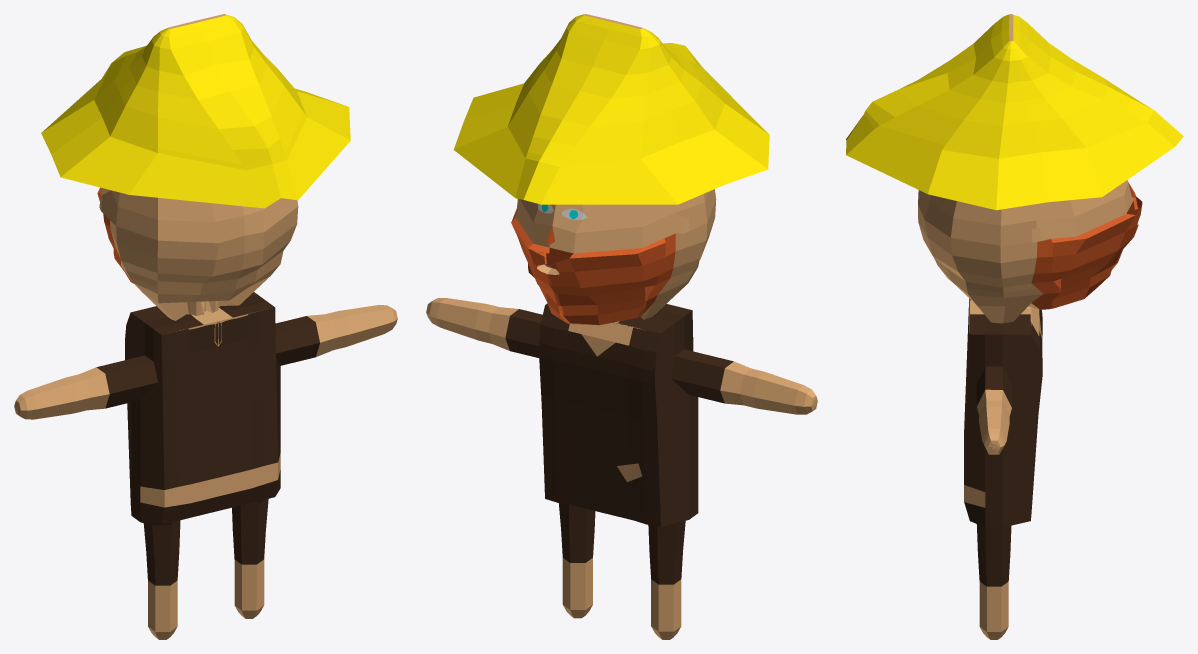
The model's file is SEKSEKALastm2to3.fbx.
The picture shows the model from 3 angles, left to right: view 1: azimuth 30°, elevation 25°; view 2: azimuth 150°, elevation 25°; view 3: azimuth 270°, elevation 25°; orthographic projection. The views are drawn at different scales.
Parts seen in each view (by area): view 1: Cylinder; view 2: Cylinder; view 3: Cylinder.
Boxes of the visible parts, <box> form: Cylinder: <box>14,14,397,639</box>; Cylinder: <box>426,14,817,639</box>; Cylinder: <box>846,14,1183,639</box>.
Size of the model in its own units: 541 by 819 by 426.
